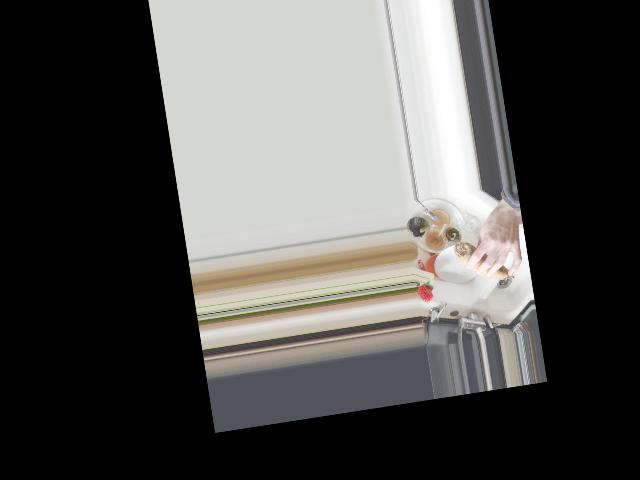sweet_potato: (455, 235, 515, 286)
